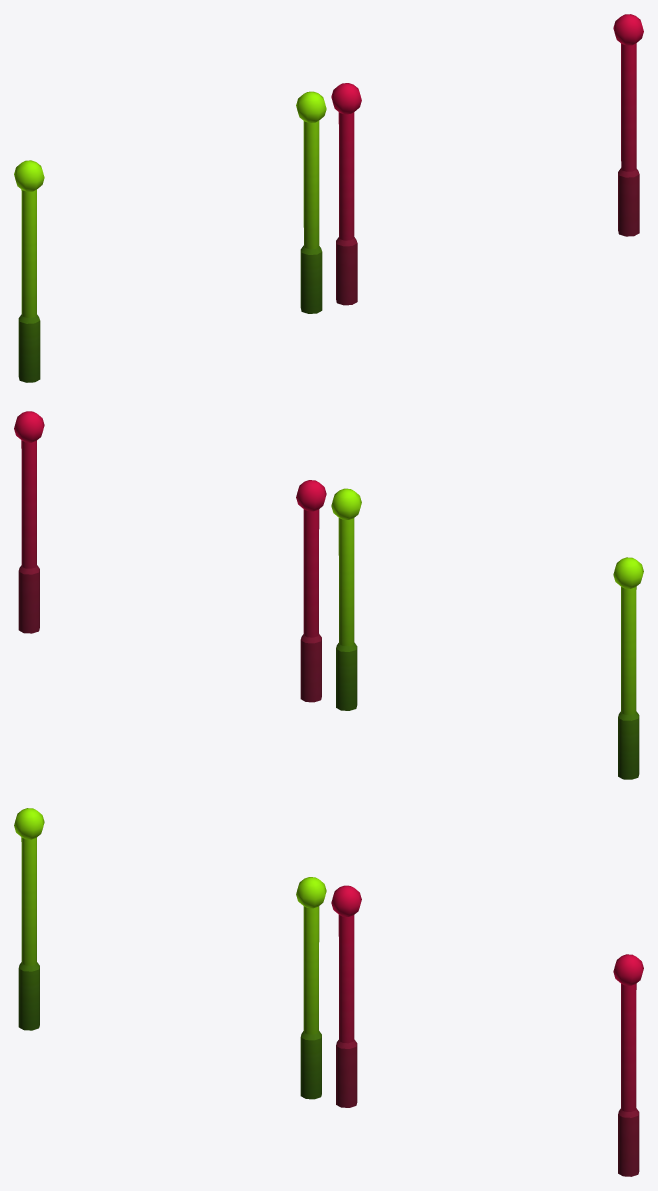
The model's file is Gates.fbx.
3 views of the same model, one above another, from view 1: azimuth 30°, elevation 25°; view 2: azimuth 150°, elevation 25°; view 3: azimuth 330°, elevation 25° (orthographic).
Visible parts, largest first — view 1: PoleLeft_1, PoleRight_1, PoleRight, PoleLeft; view 2: PoleLeft_1, PoleRight, PoleLeft, PoleRight_1; view 3: PoleLeft_1, PoleRight, PoleLeft, PoleRight_1.
Boxes of the visible parts, x1=… form: PoleLeft_1: x1=296, y1=91, x2=326, y2=313; PoleRight_1: x1=14, y1=160, x2=44, y2=382; PoleRight: x1=331, y1=83, x2=361, y2=305; PoleLeft: x1=613, y1=14, x2=643, y2=236; PoleLeft_1: x1=331, y1=488, x2=361, y2=710; PoleRight: x1=296, y1=480, x2=326, y2=702; PoleLeft: x1=14, y1=411, x2=44, y2=633; PoleRight_1: x1=613, y1=557, x2=643, y2=779; PoleLeft_1: x1=296, y1=877, x2=326, y2=1099; PoleRight: x1=331, y1=885, x2=361, y2=1107; PoleLeft: x1=613, y1=954, x2=643, y2=1176; PoleRight_1: x1=14, y1=808, x2=44, y2=1030.
Bounding box in the file's own units: 889 × 294 × 39.19.
Materials: 1 (1 with a texture image).
